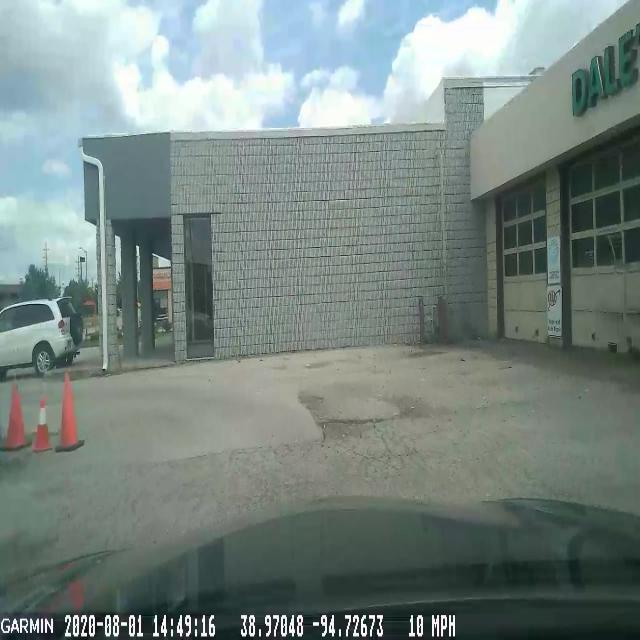Pothole: (299, 407, 397, 452)
